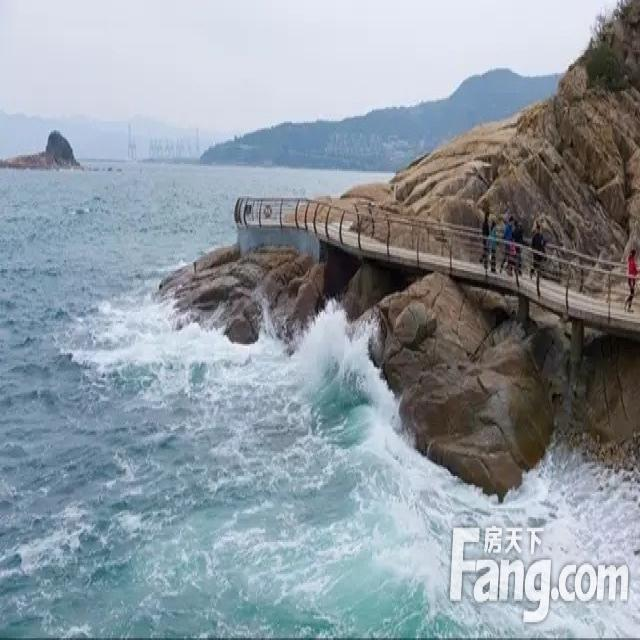reef: (163, 156, 410, 364), (10, 114, 109, 204)
